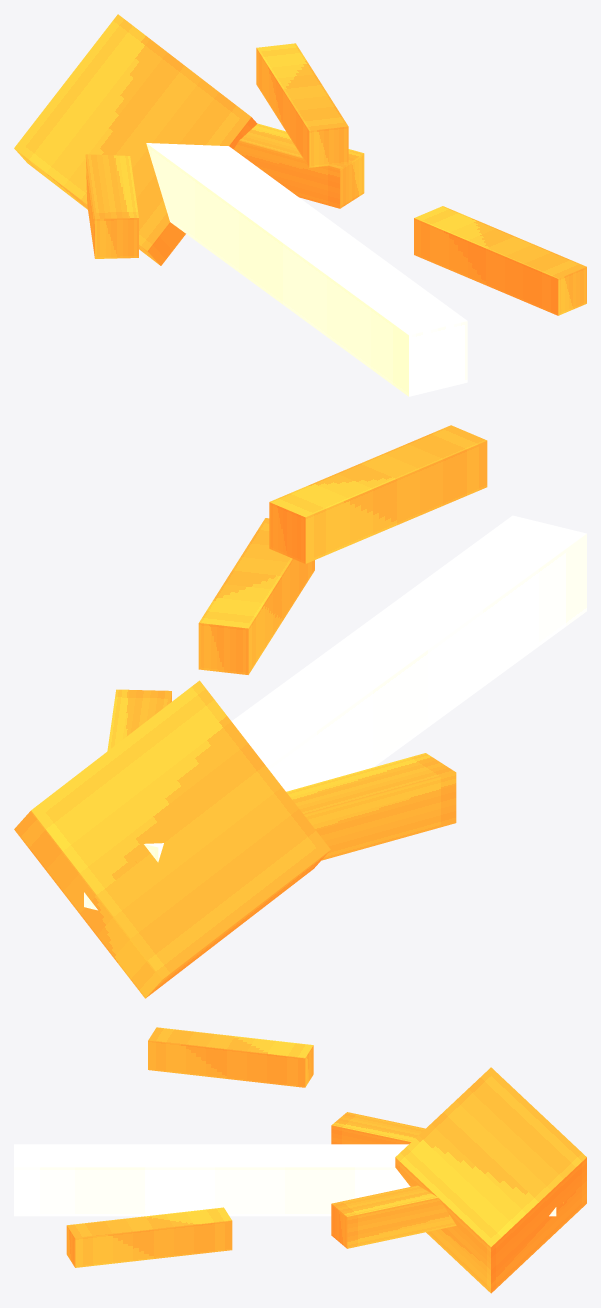
Rendered from projectile_fire_fire.gltf.
3 renders of one model, top to bottom at view 1: azimuth 30°, elevation 25°; view 2: azimuth 150°, elevation 25°; view 3: azimuth 270°, elevation 25°, orthographic. The views are drawn at different scales.
Visible parts, largest first — view 1: core_mesh; view 2: core_mesh; view 3: core_mesh.
Boxes of the visible parts, x1,y1,x2,y2 form: core_mesh: [14, 14, 586, 396]; core_mesh: [14, 425, 586, 998]; core_mesh: [14, 1027, 586, 1293].
Bounding box in the file's own units: 0.3418 × 0.3084 × 0.6605.
Materials: 1 (1 with a texture image).
